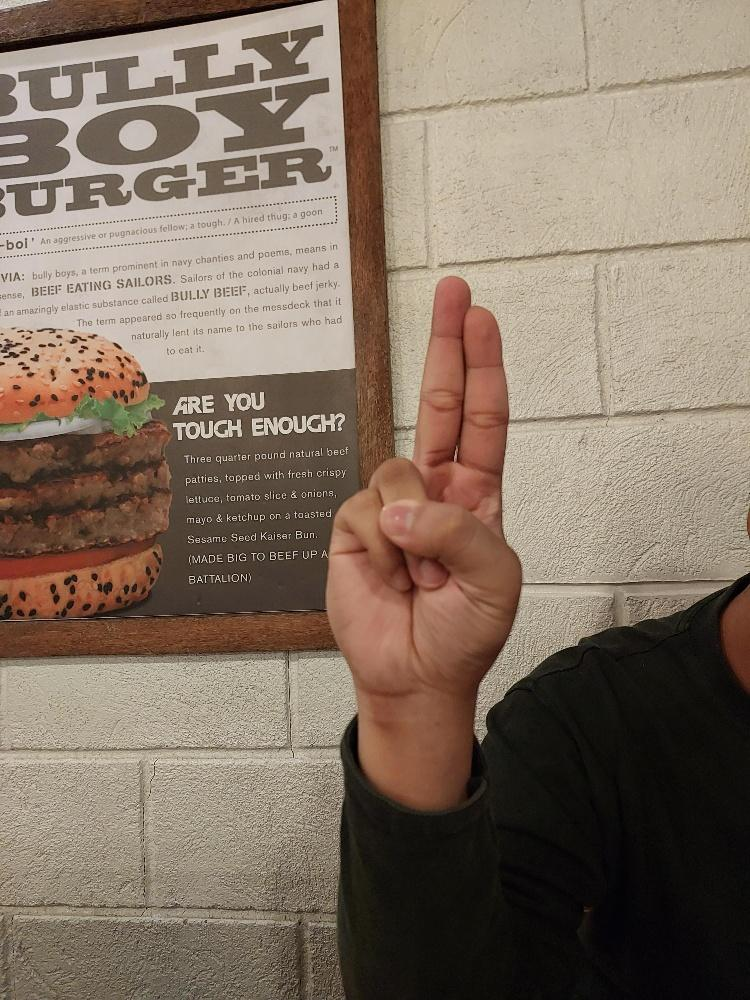u: (322, 272, 523, 703)
